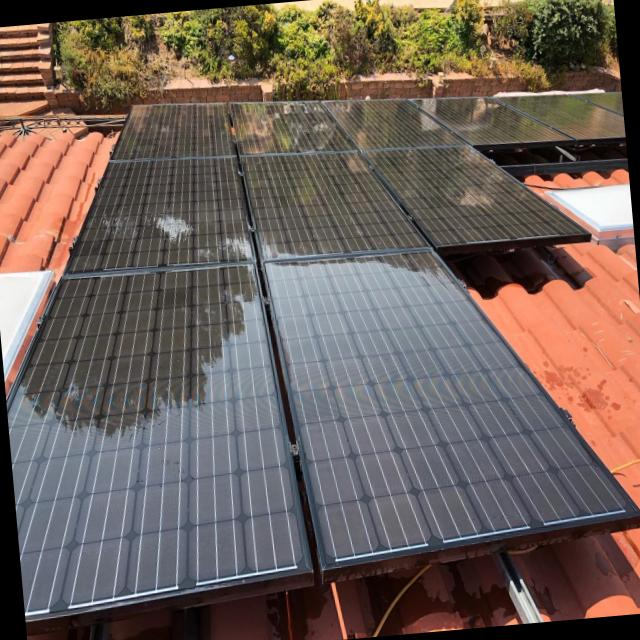no faulty: (58, 97, 628, 574), (7, 270, 303, 614)
